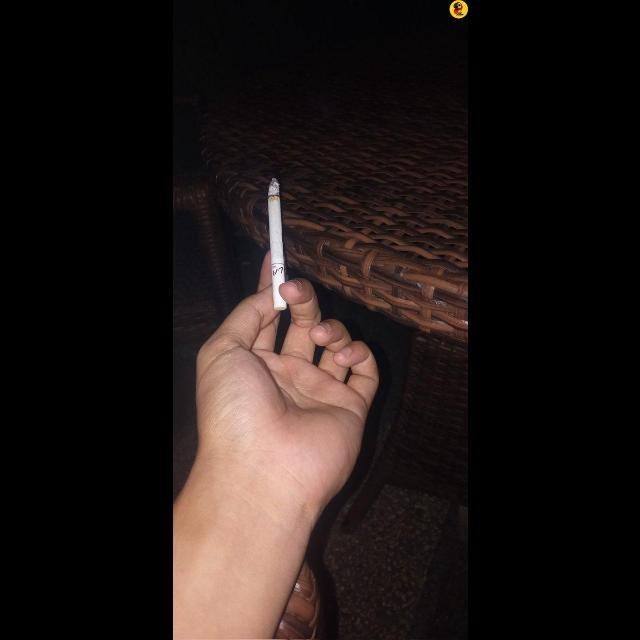rokok: (264, 174, 292, 316)
